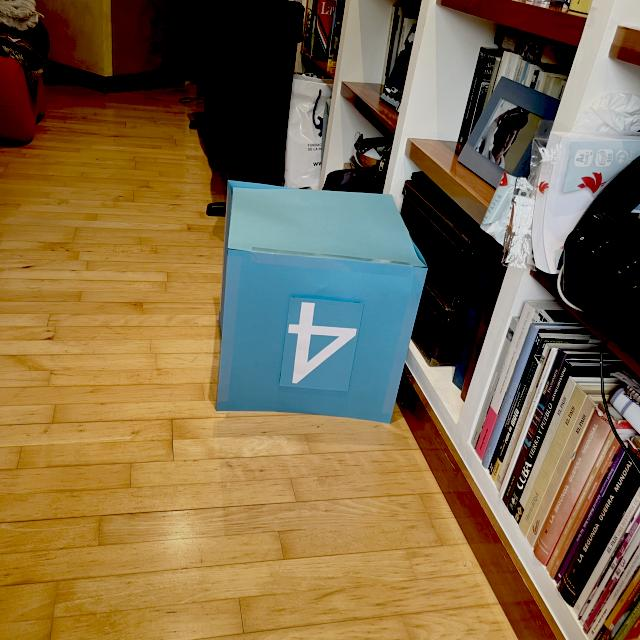box: (212, 177, 429, 426)
